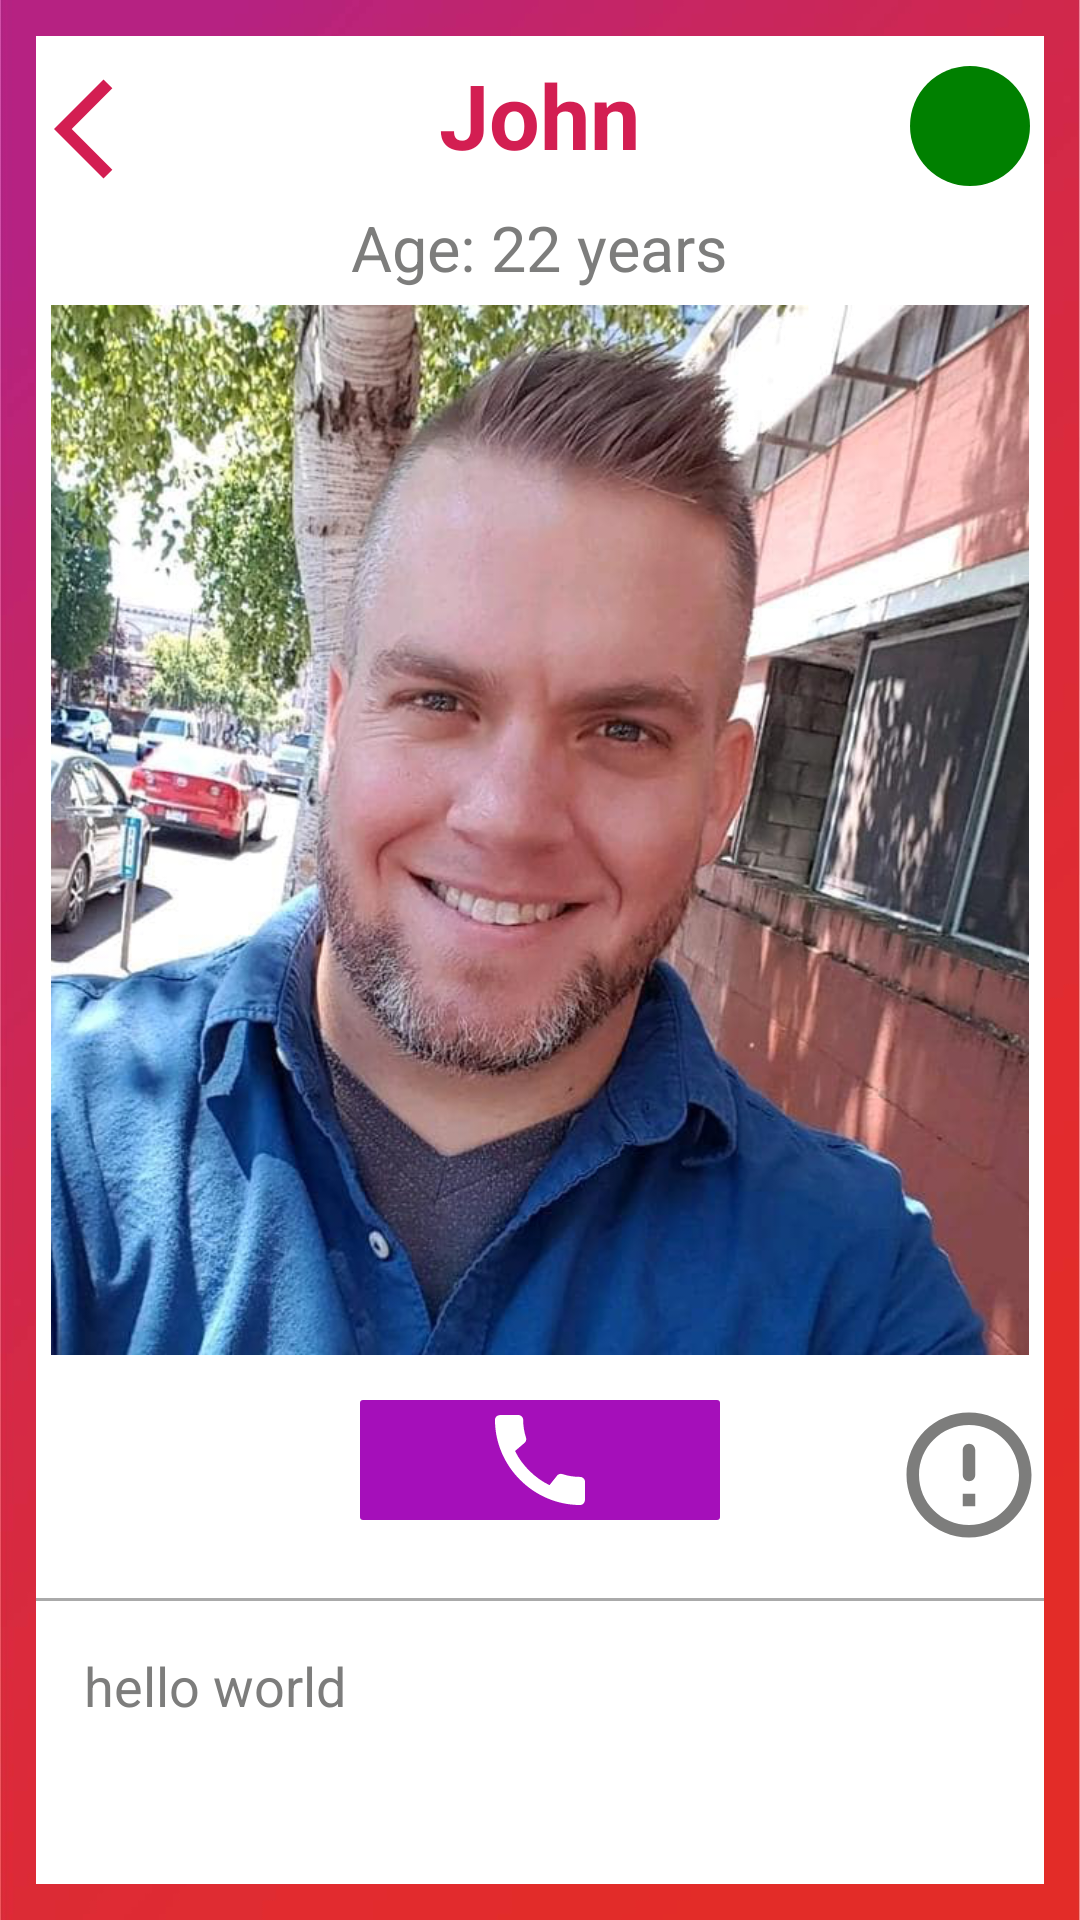

Screen size 1080px×1920px. Icon name, then its box in pixels as {"left": x1, "top": y1, "right": x2, "bottom": y2}:
arrow back: {"left": 54, "top": 79, "right": 113, "bottom": 179}
call: {"left": 360, "top": 1400, "right": 720, "bottom": 1520}
error: {"left": 906, "top": 1412, "right": 1032, "bottom": 1538}
